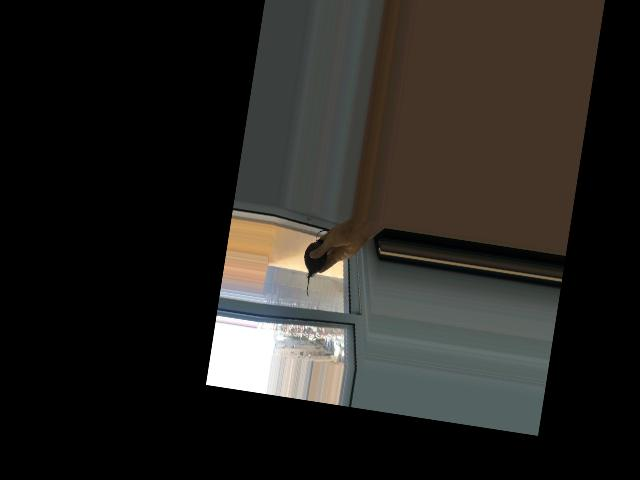beet: (298, 227, 337, 299)
